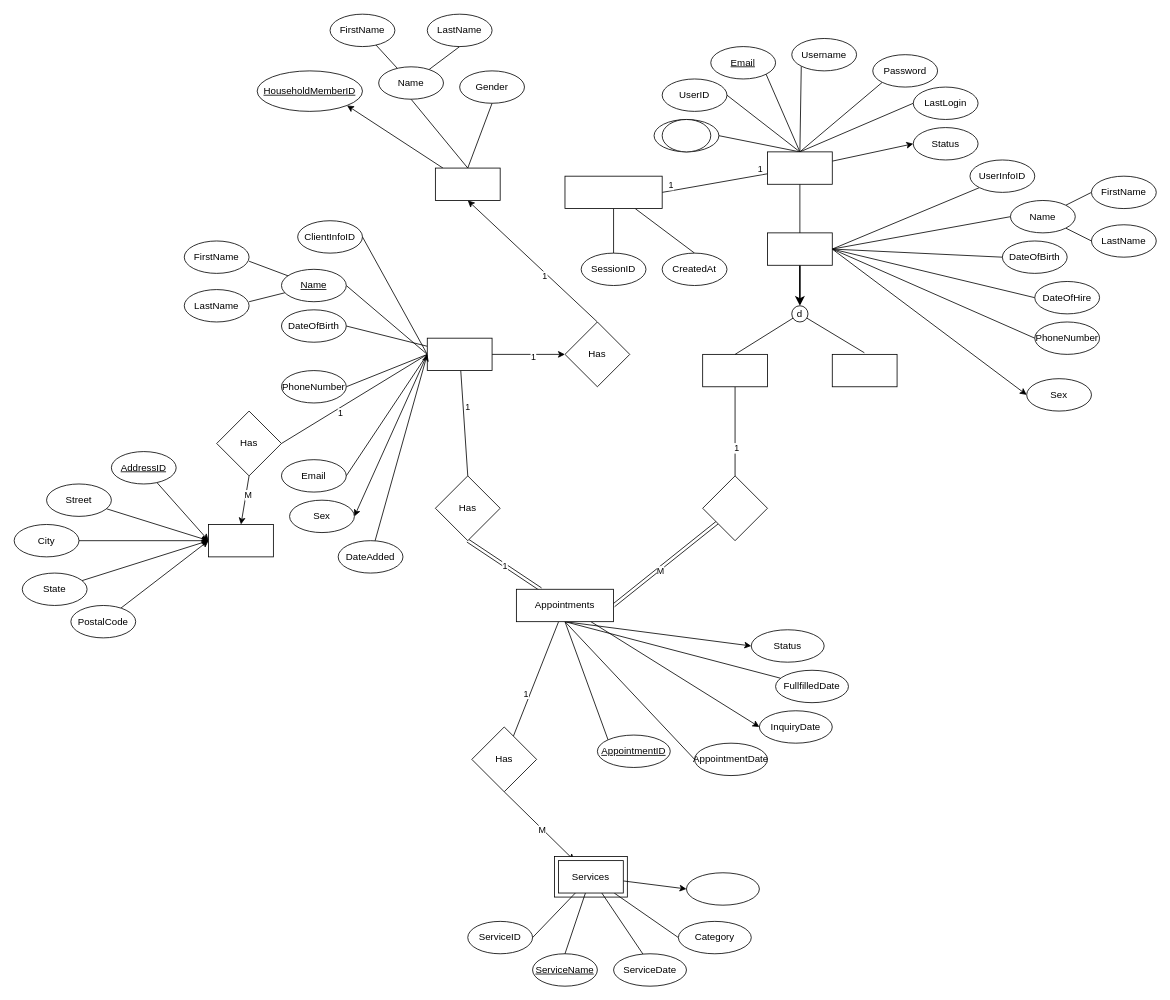
This 1170x1000 diagram has some shape labels left out. Here are the shapes that lost their labels. From the top down, the centre of each, then its label:
pixel 686 135: UserType
pixel 467 183: Household
pixel 799 167: User
pixel 613 192: ActiveSessions
pixel 799 248: UserInfo
pixel 459 354: ClientInfo
pixel 734 370: Employee
pixel 864 370: Admin
pixel 734 508: Creates
pixel 240 540: AddressInfo
pixel 722 888: Amount
